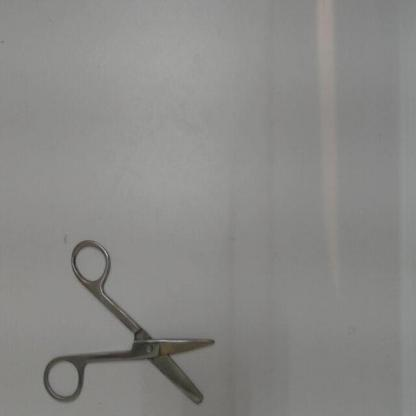Dressing Scissors: (39, 234, 230, 412)
